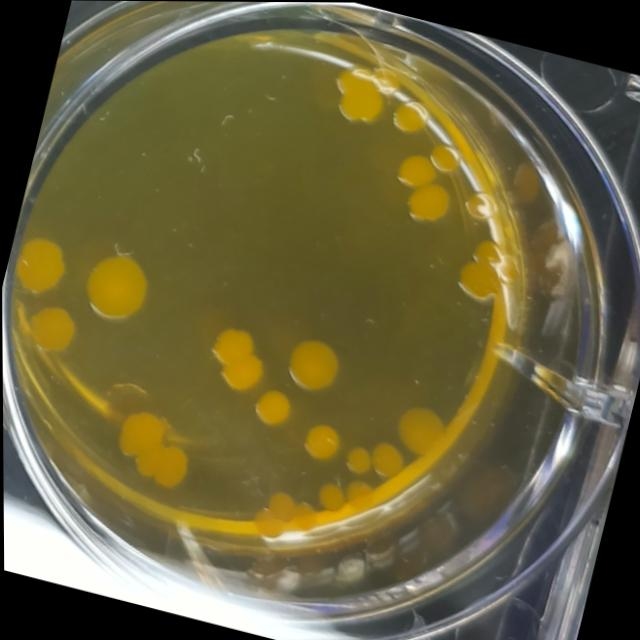vibrio: (105, 406, 198, 496), (77, 242, 155, 326), (195, 317, 275, 397), (274, 321, 351, 401), (325, 58, 394, 130), (7, 228, 72, 302), (18, 295, 82, 360), (452, 233, 512, 302), (388, 397, 451, 458), (399, 173, 456, 232), (247, 380, 296, 430), (389, 145, 440, 193), (297, 414, 344, 464), (386, 91, 432, 138), (365, 435, 409, 482), (423, 134, 468, 177), (458, 181, 501, 224), (339, 473, 381, 513), (247, 502, 286, 541), (260, 486, 298, 523), (314, 476, 349, 516), (339, 439, 374, 478), (285, 495, 320, 532)
